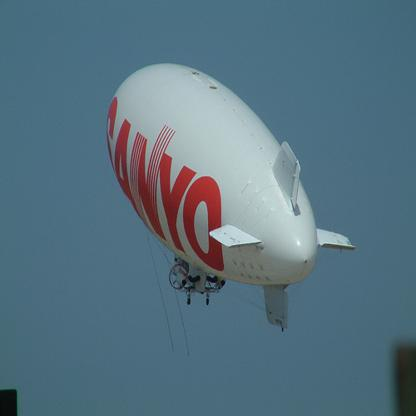Airship: (104, 58, 357, 335)
